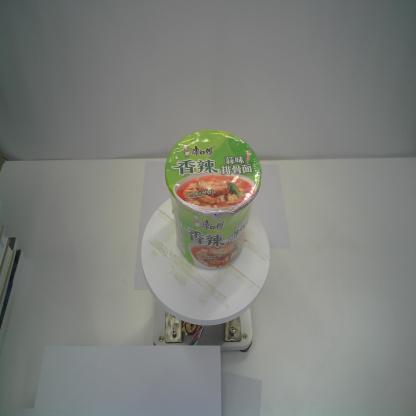Instant Noodles: (164, 129, 261, 271)
